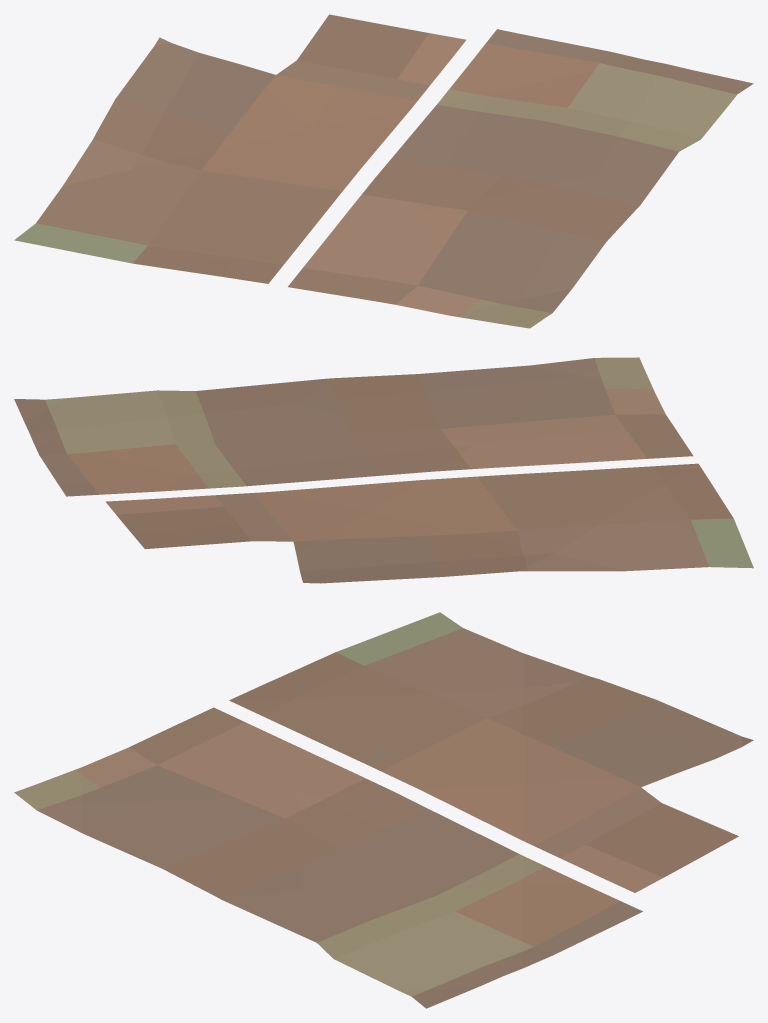
The model's file is farm_-21_-24_soil.glb.
3 views of the same model, one above another, from view 1: azimuth 30°, elevation 25°; view 2: azimuth 150°, elevation 25°; view 3: azimuth 270°, elevation 25° (orthographic). The views are drawn at different scales.
Visible parts, largest first — view 1: geometry_0; view 2: geometry_0; view 3: geometry_0.
Boxes of the visible parts, x1,y1,x2,y2 form: geometry_0: [14, 14, 753, 328]; geometry_0: [14, 357, 753, 583]; geometry_0: [14, 612, 753, 1008].
Bounding box in the file's own units: 326 × 17.86 × 269.
